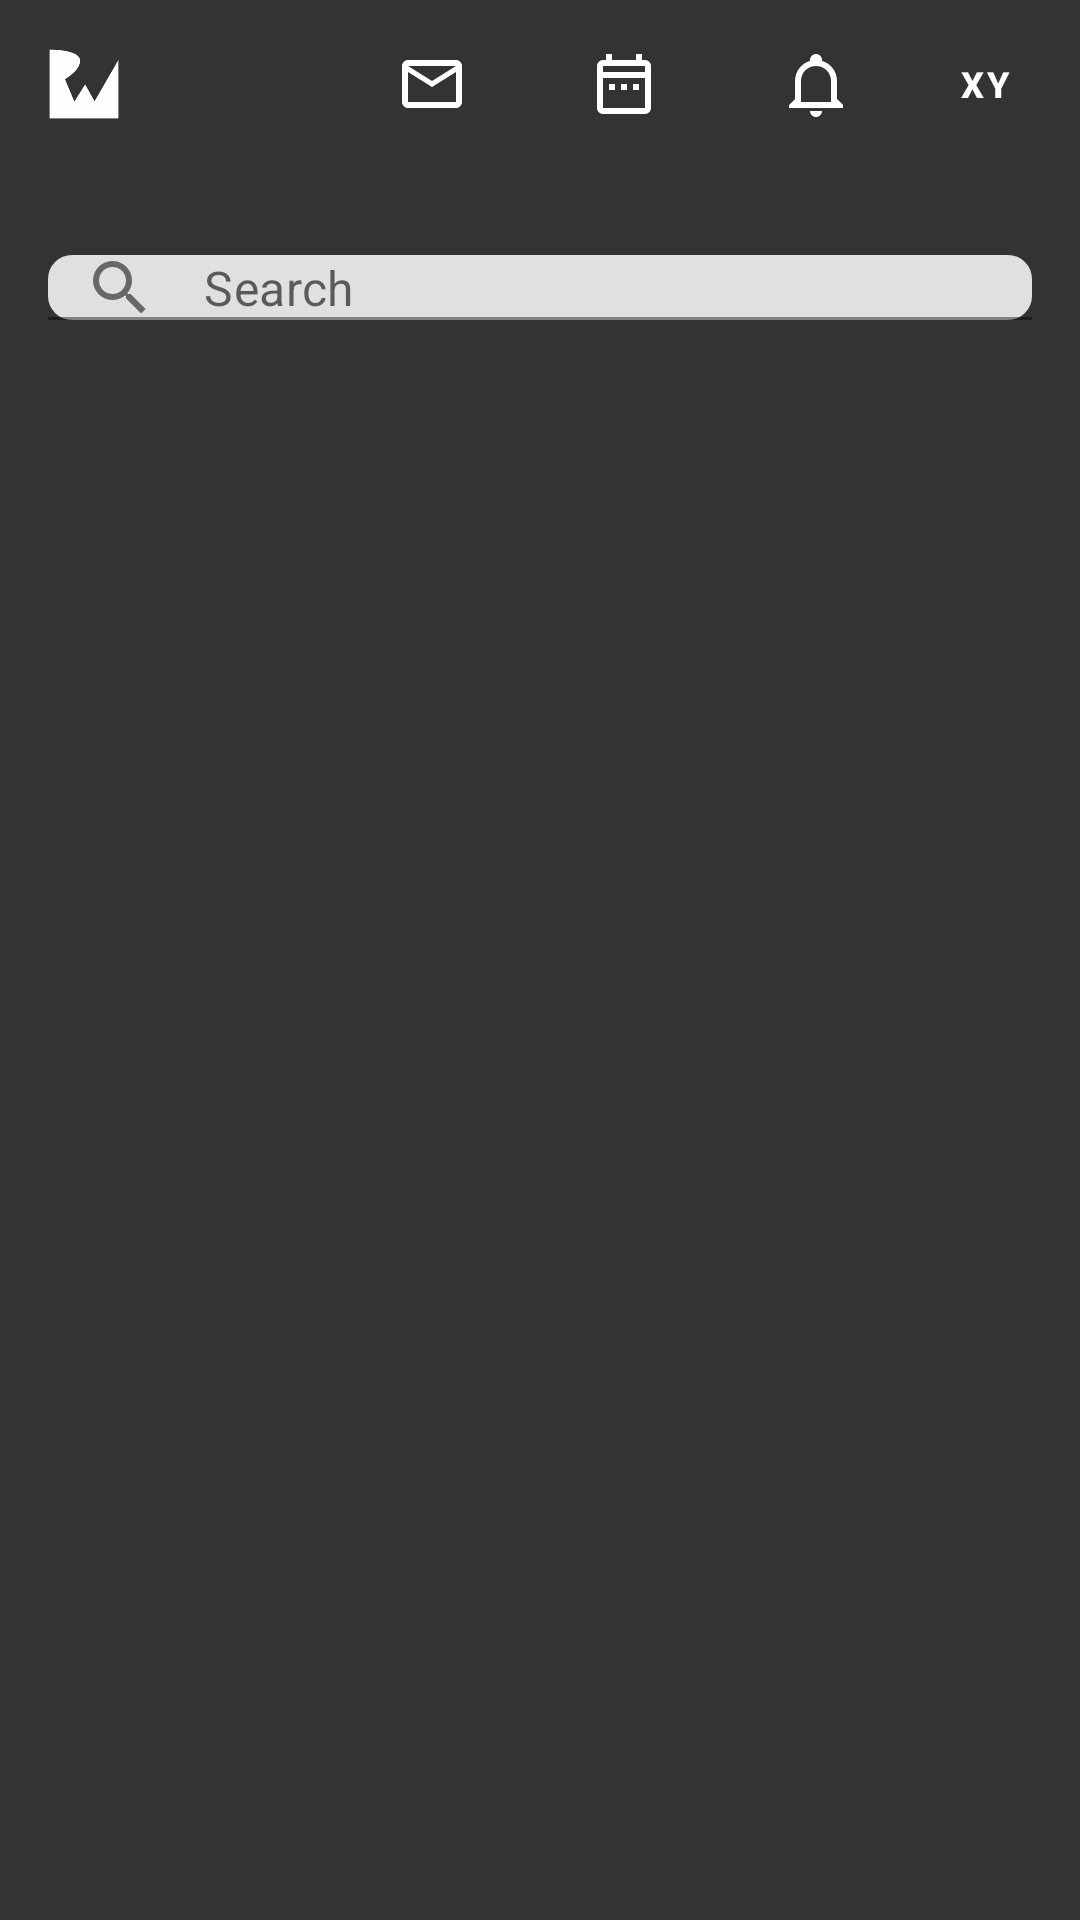

Screen size 1080×1920. Icon name, then its center in pixels as (x=x, y=y):
Calendar: (x=624, y=84)
Messages: (x=432, y=84)
Notifications: (x=816, y=85)
